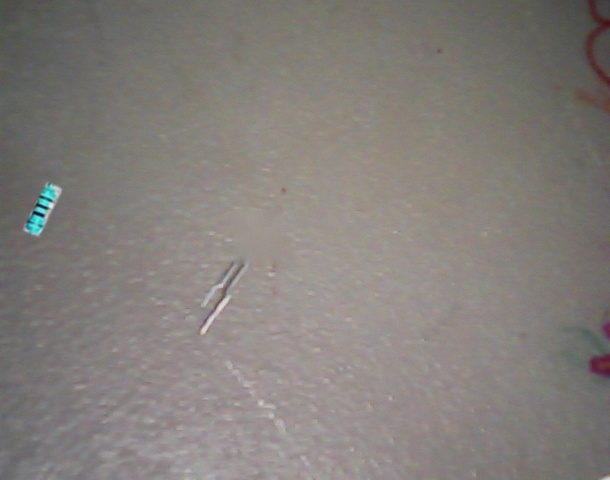resistor: (23, 182, 62, 237)
